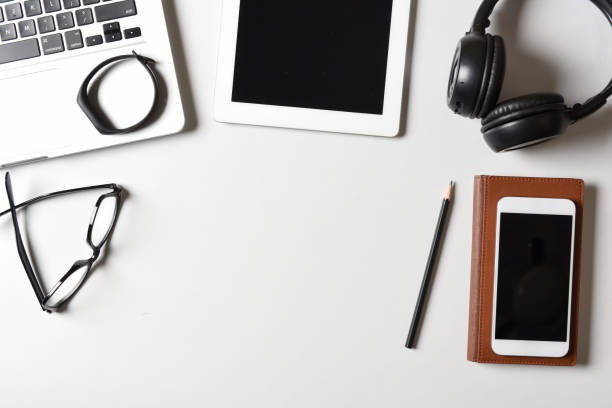keyboard: (1, 1, 146, 66)
phone: (492, 194, 578, 361)
